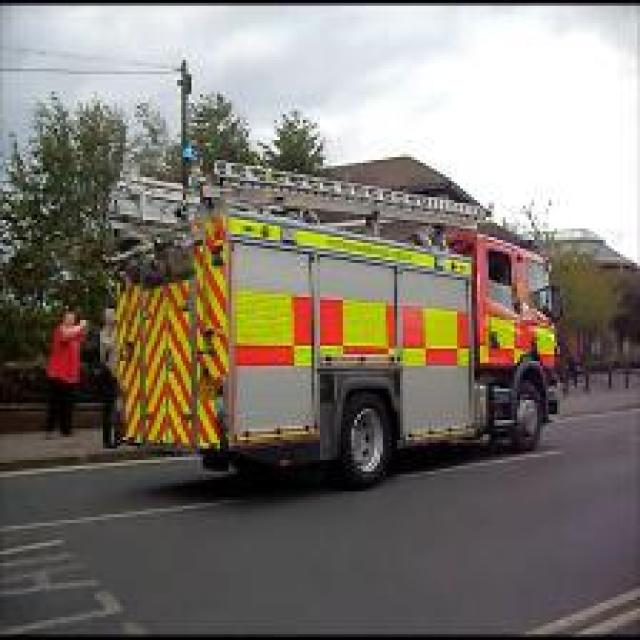other: (230, 277, 568, 373), (107, 236, 224, 447)
